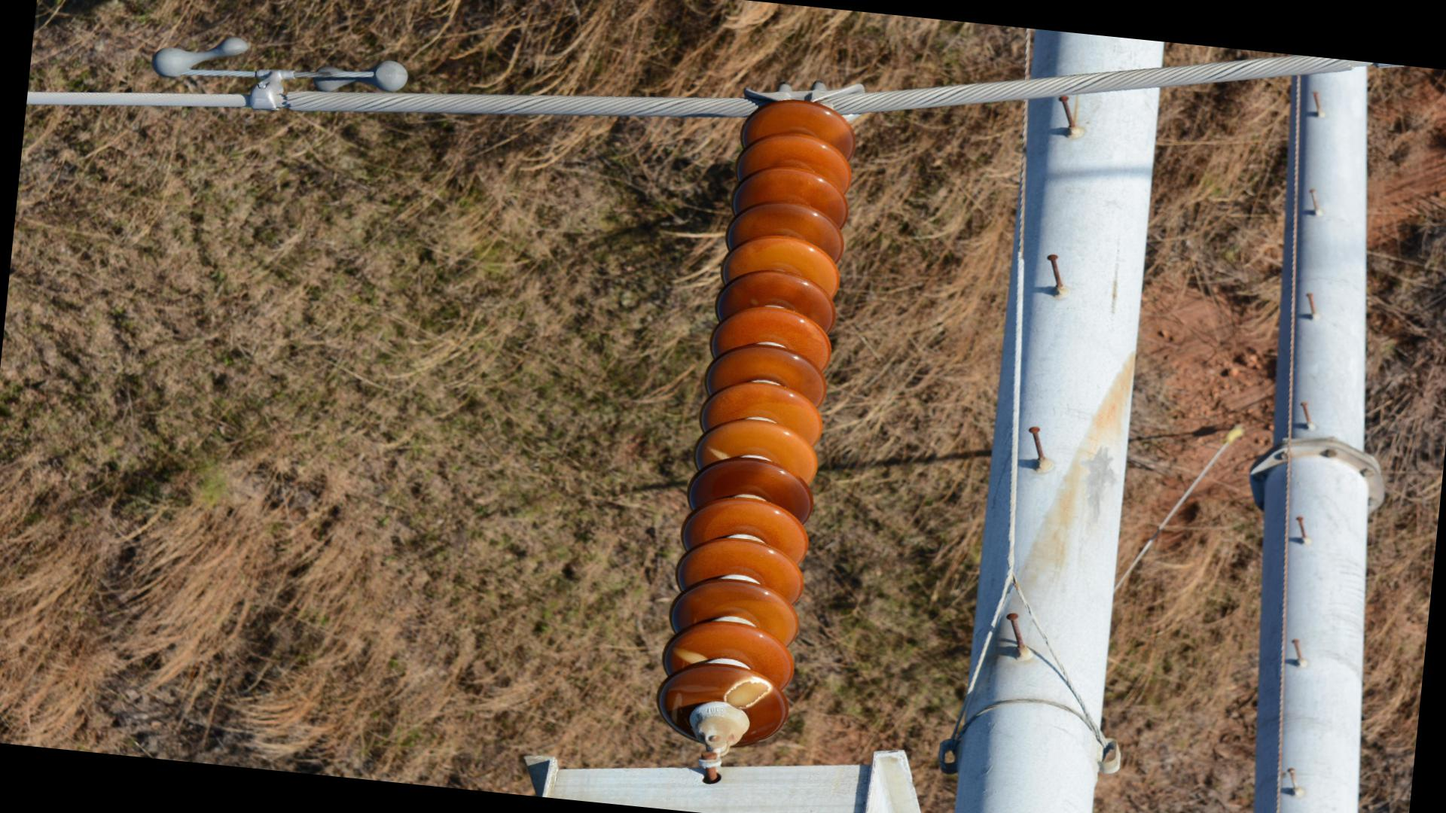damper: (142, 21, 415, 129)
